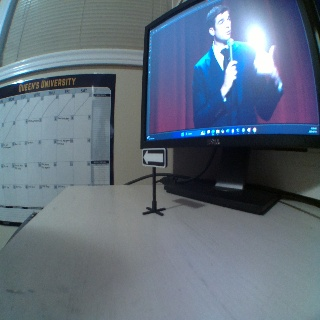sign_oneway_left: (141, 147, 165, 167)
